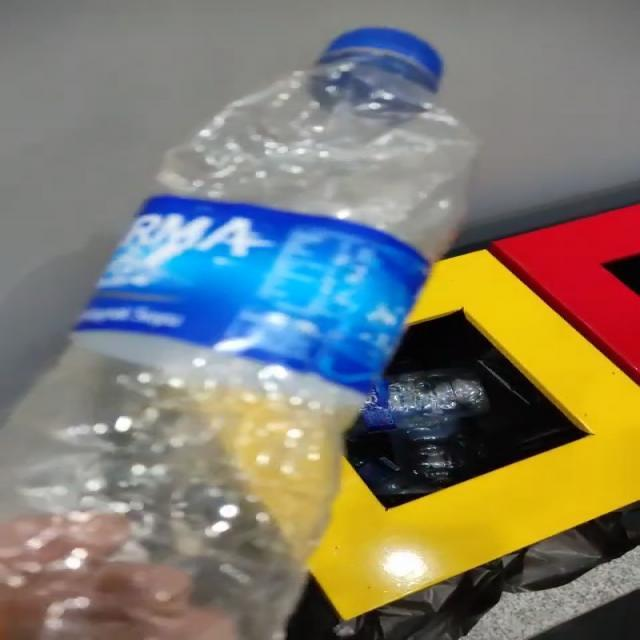Plastic: (3, 28, 477, 640)
